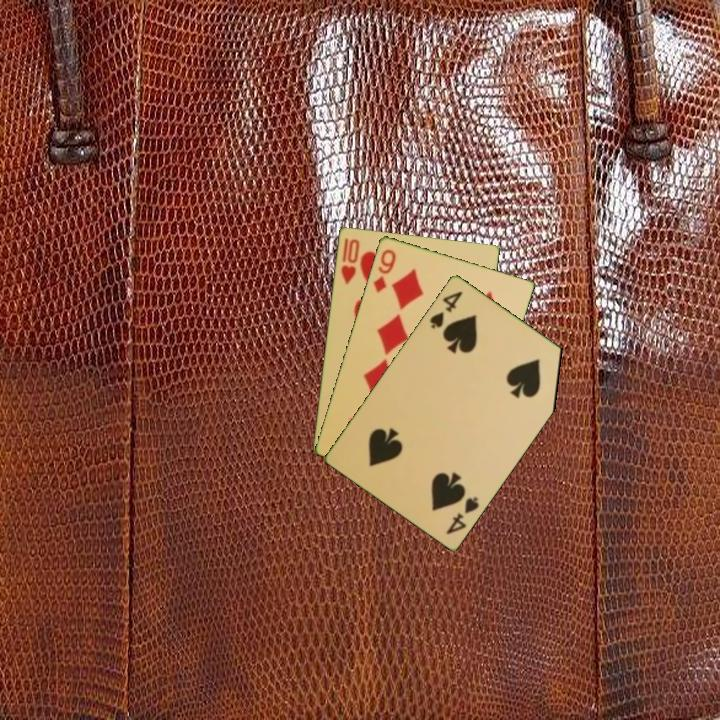10h: (337, 235, 362, 286)
4s: (426, 287, 466, 331), (442, 493, 482, 537)
9d: (369, 245, 399, 295)
